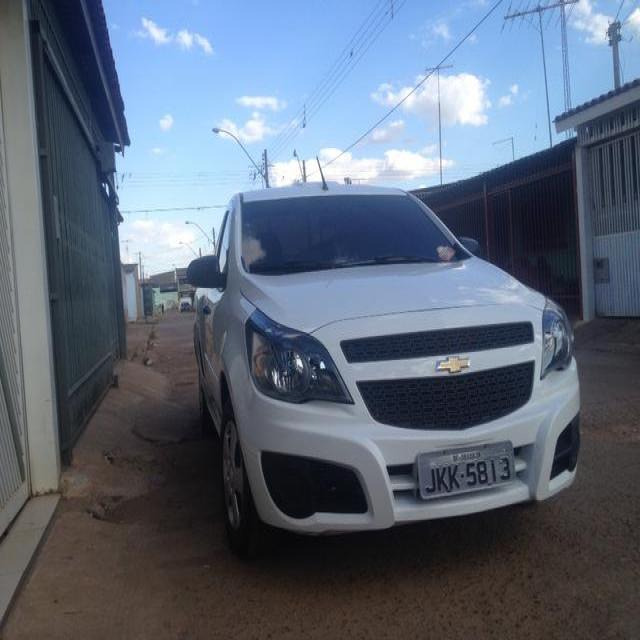Placa: (412, 435, 521, 503)
